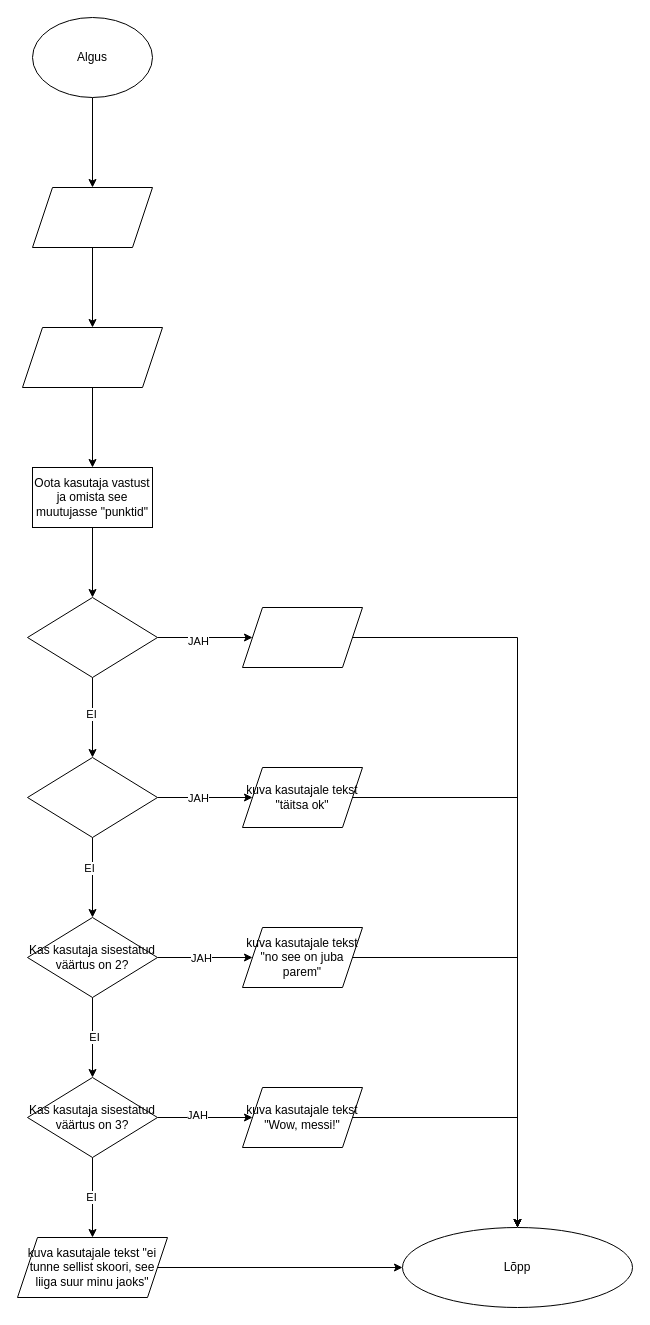
This 650x1325 diagram has some shape labels left out. The centre of each missing label's shape, as x and y in pixels:
Kas kasutaja sisestatud väärtus on 0?: pixel 92 637
Kas kasutaja sisestatud väärtus on 1?: pixel 92 797
kuva kasutajale tekst "Mitu punkti sa viimases jalgpallimängus said?": pixel 92 357
Kuva kasutajale tekst "PUDRUJALG OLED VÄ?!?!": pixel 302 637
tekita arv tüüpi muutuja "punktid" mille algväärtuseks on 0: pixel 92 217
